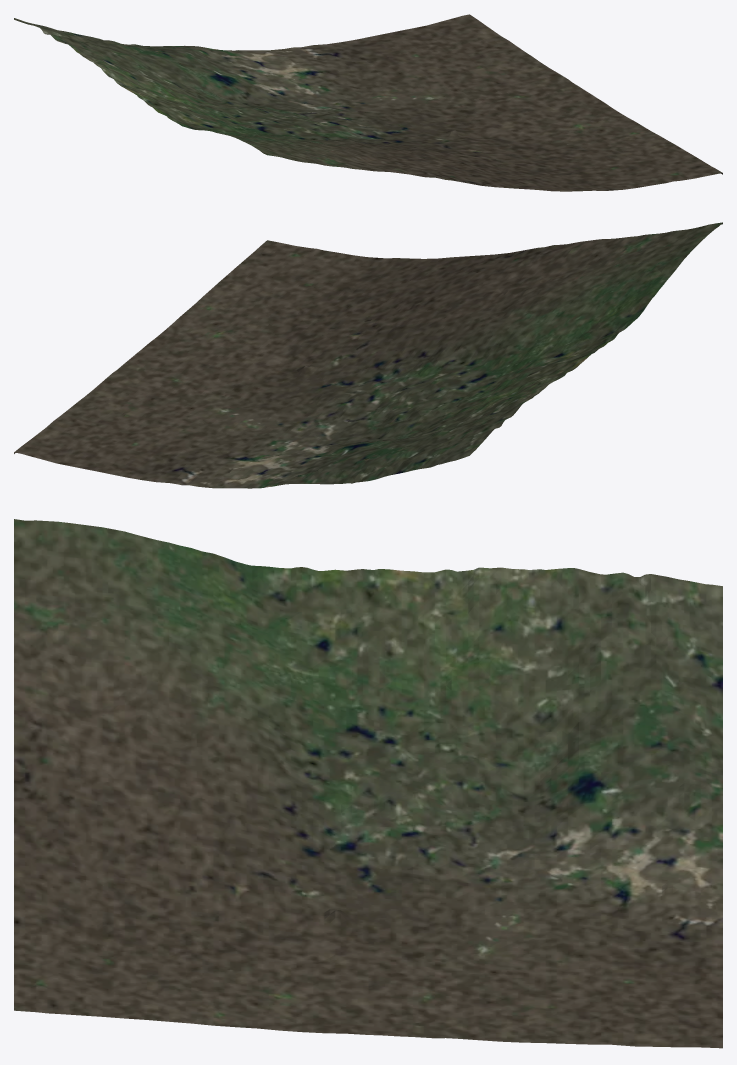
3 views of the same model, one above another, from view 1: azimuth 30°, elevation 25°; view 2: azimuth 150°, elevation 25°; view 3: azimuth 270°, elevation 25° (orthographic). The views are drawn at different scales.
Size of the model in its own units: 250 by 83.02 by 241.
1 material, 1 textured.
